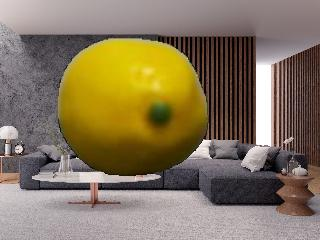lemon: (57, 39, 208, 177)
